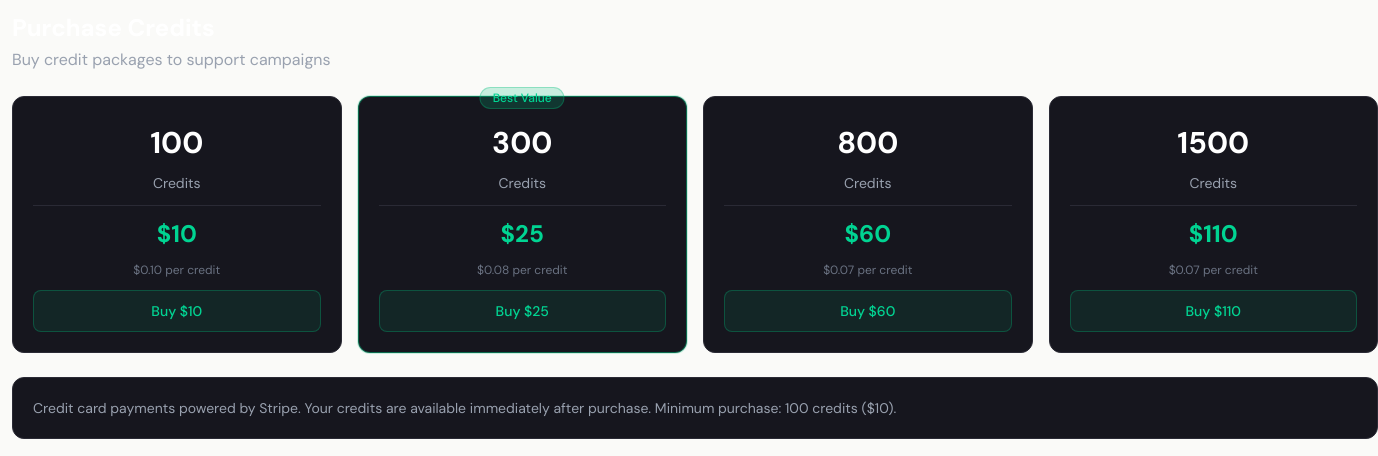
PurchaseCreditPage — spec-based tests › should show "Processing..." on the clicked button while request is in flight
Click the button "Buy $25".
click(522, 311)  # box x1=378 y1=290 x2=666 y2=332
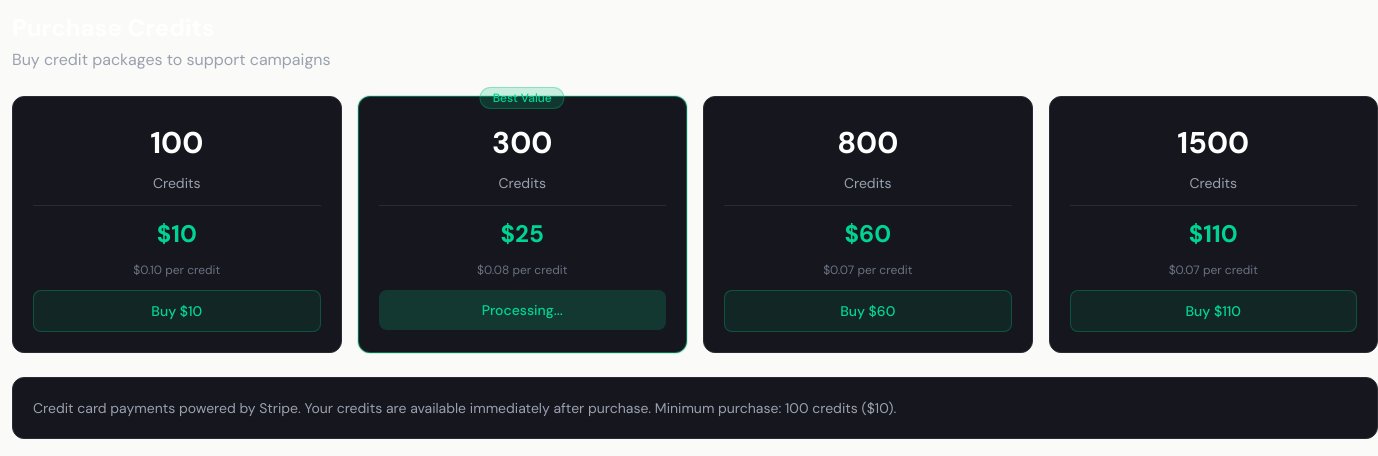
Expected: the button "Processing..." is shown, x1=378 y1=290 x2=666 y2=330
